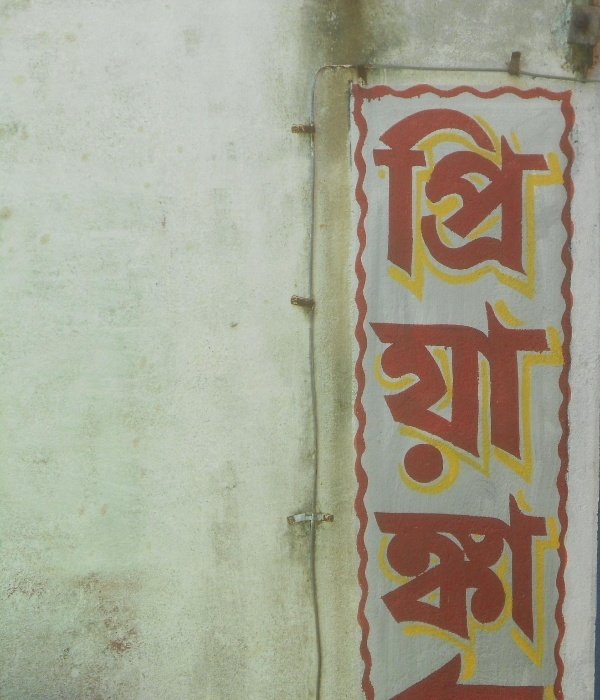text: (385, 106, 400, 647), (401, 106, 416, 647), (417, 106, 432, 647), (433, 106, 448, 647), (449, 106, 464, 647), (465, 106, 480, 647), (481, 106, 496, 647), (497, 106, 512, 647), (513, 106, 528, 647), (529, 106, 544, 647), (370, 106, 384, 647), (545, 106, 555, 647)
